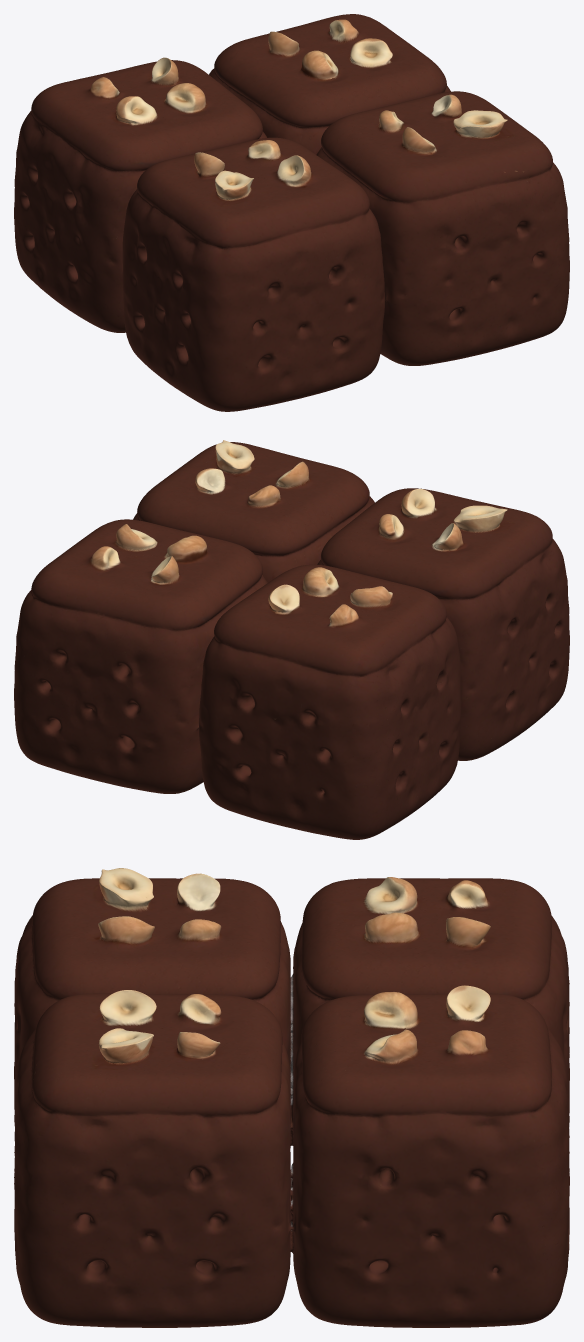
File: hazelnut-cup.glb
3 renders of one model, top to bottom at view 1: azimuth 30°, elevation 25°; view 2: azimuth 150°, elevation 25°; view 3: azimuth 270°, elevation 25°, orthographic. The views are drawn at different scales.
Bounding box in the file's own units: 1.9 × 1.06 × 1.9.
1 material, 1 textured.
